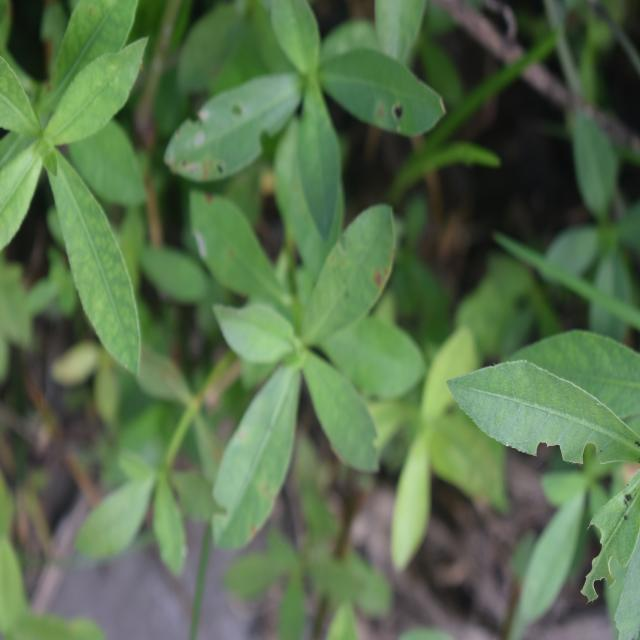Alligatorweed: (0, 1, 137, 375), (193, 0, 436, 198)
